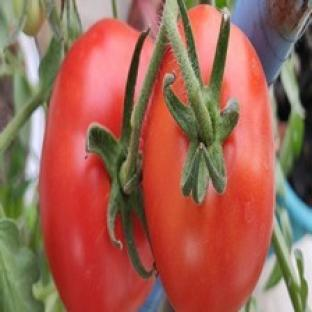Tomato: (144, 27, 274, 311), (39, 20, 153, 311)
